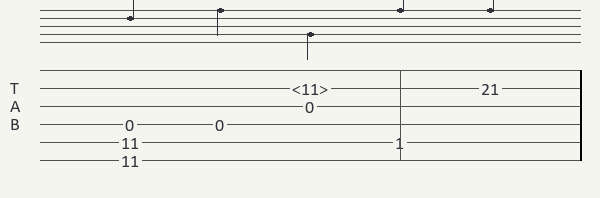0: (125, 117, 138, 132), (215, 117, 228, 132), (305, 99, 318, 114)
1: (395, 135, 408, 150)
11: (121, 153, 143, 168), (121, 135, 143, 150)
21: (481, 81, 503, 96)
harmonic: (292, 81, 332, 96)
